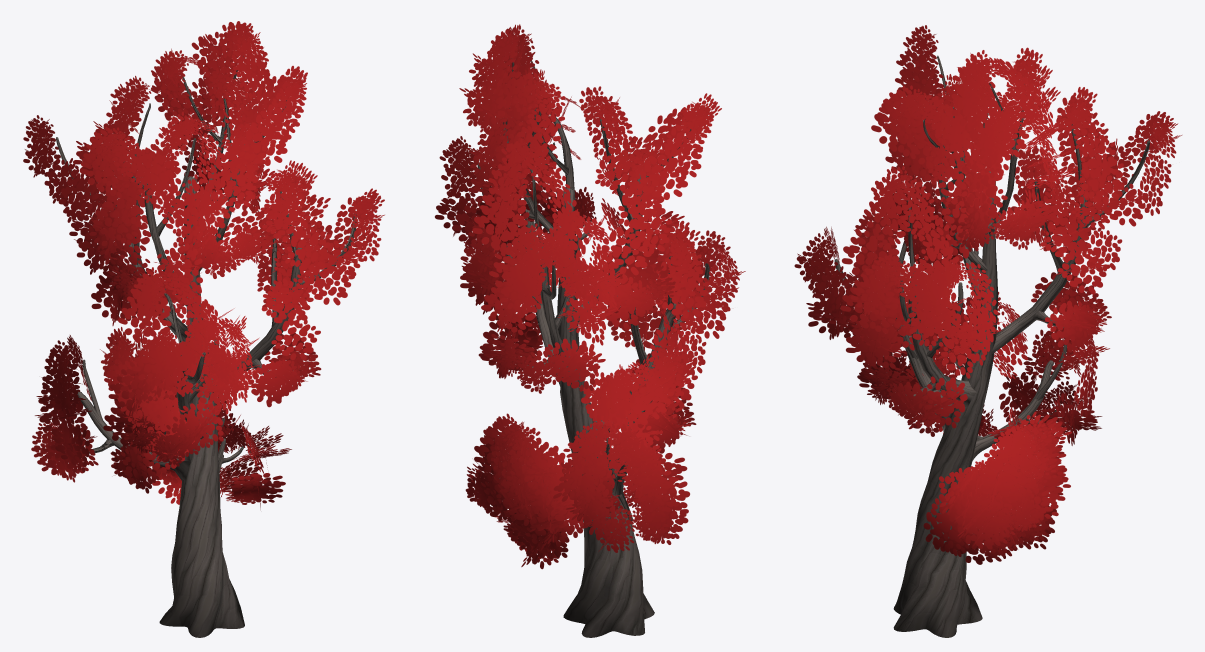
Rendered from prop_snm_twisted_tree_3.glb.
3 views of the same model, side by side, from view 1: azimuth 30°, elevation 25°; view 2: azimuth 150°, elevation 25°; view 3: azimuth 270°, elevation 25° (orthographic). The views are drawn at different scales.
Visible parts, largest first — view 1: TwistedTree_4; view 2: TwistedTree_4; view 3: TwistedTree_4.
Part boxes in pixels (box(x1,y1,x2,y2)): TwistedTree_4: box(23, 21, 384, 637); TwistedTree_4: box(435, 24, 745, 637); TwistedTree_4: box(794, 25, 1181, 637).
Bounding box in the file's own units: 10.38 × 18.74 × 11.29.
2 materials, 2 textured.
